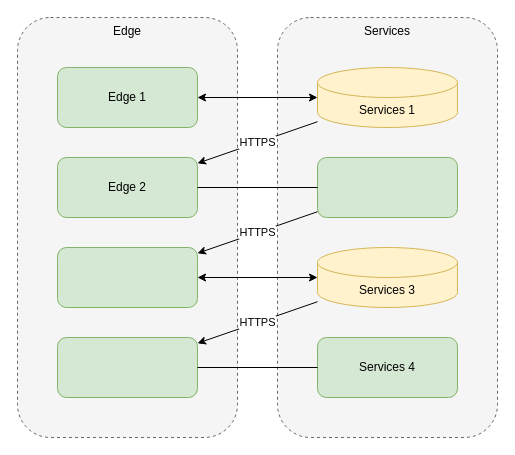
This 515x455 diagram has some shape labels left out. The shapes that lost their labels are listed below. From the top down, each one's centre as x and y in pixels, then its label:
At pixel 387 187: "Services 2".
At pixel 127 277: "Edge 3".
At pixel 127 367: "Edge 4".
